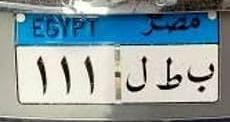1: (35, 55, 48, 96), (84, 56, 96, 94), (61, 54, 72, 92)
Taa: (155, 57, 185, 97)
baa: (186, 59, 217, 93)
laam: (124, 55, 151, 98)
